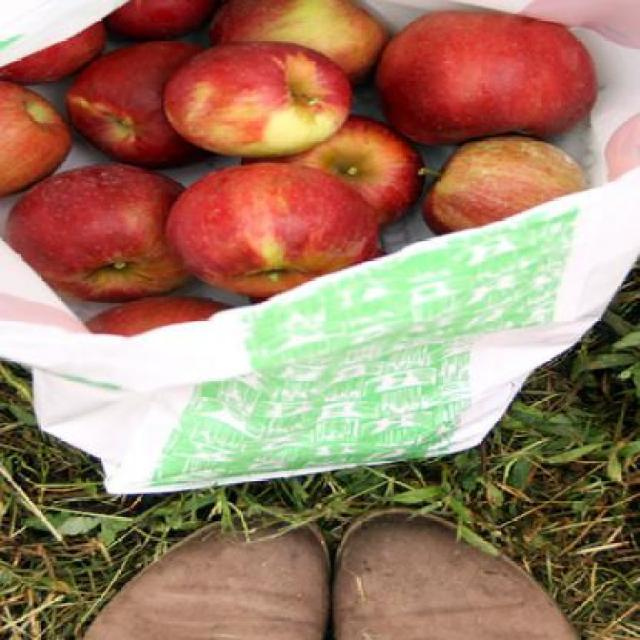Apple pie: (0, 0, 589, 338), (372, 10, 596, 134)
